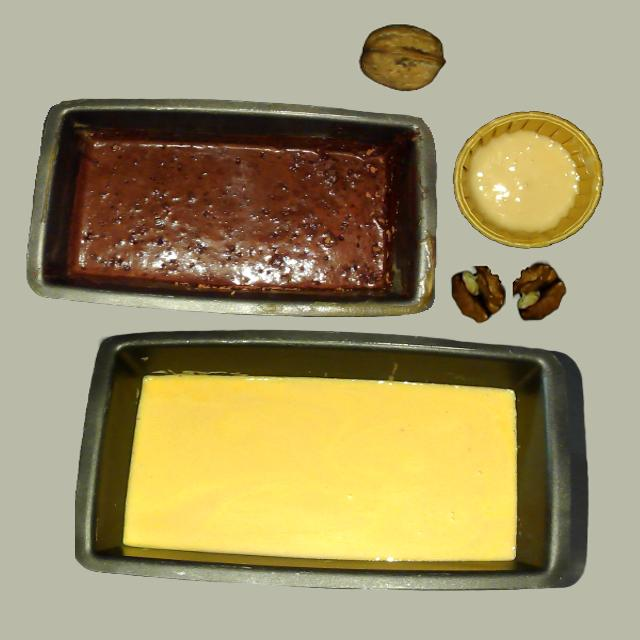Walnut: (360, 24, 444, 92)
